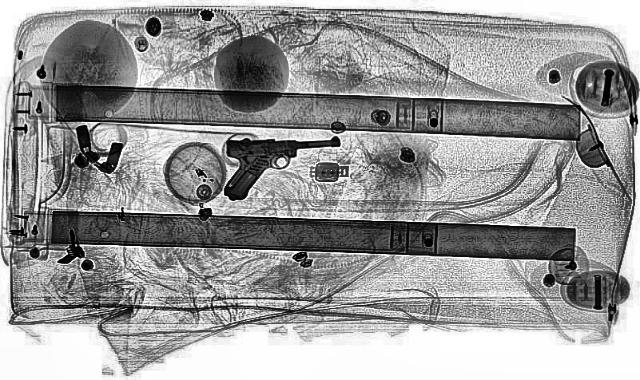Gun: (220, 137, 344, 199)
